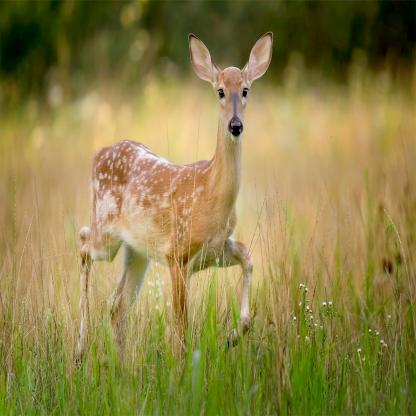Deer: (70, 25, 278, 411)
